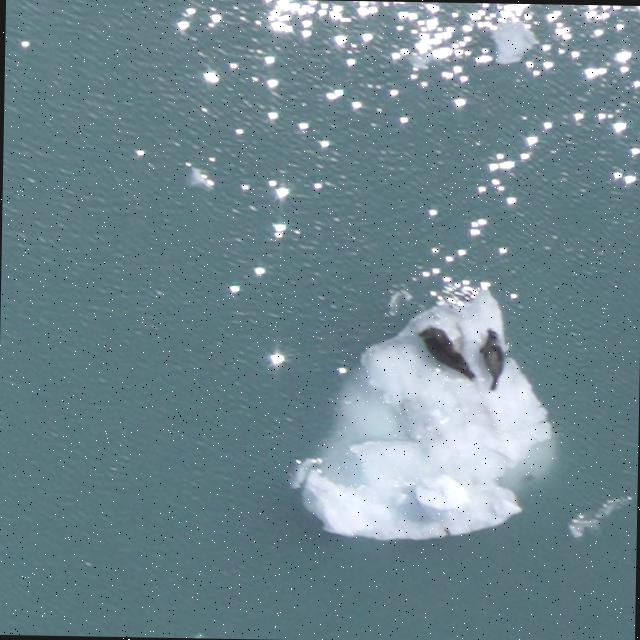seal: (417, 318, 478, 390), (474, 327, 515, 393)
